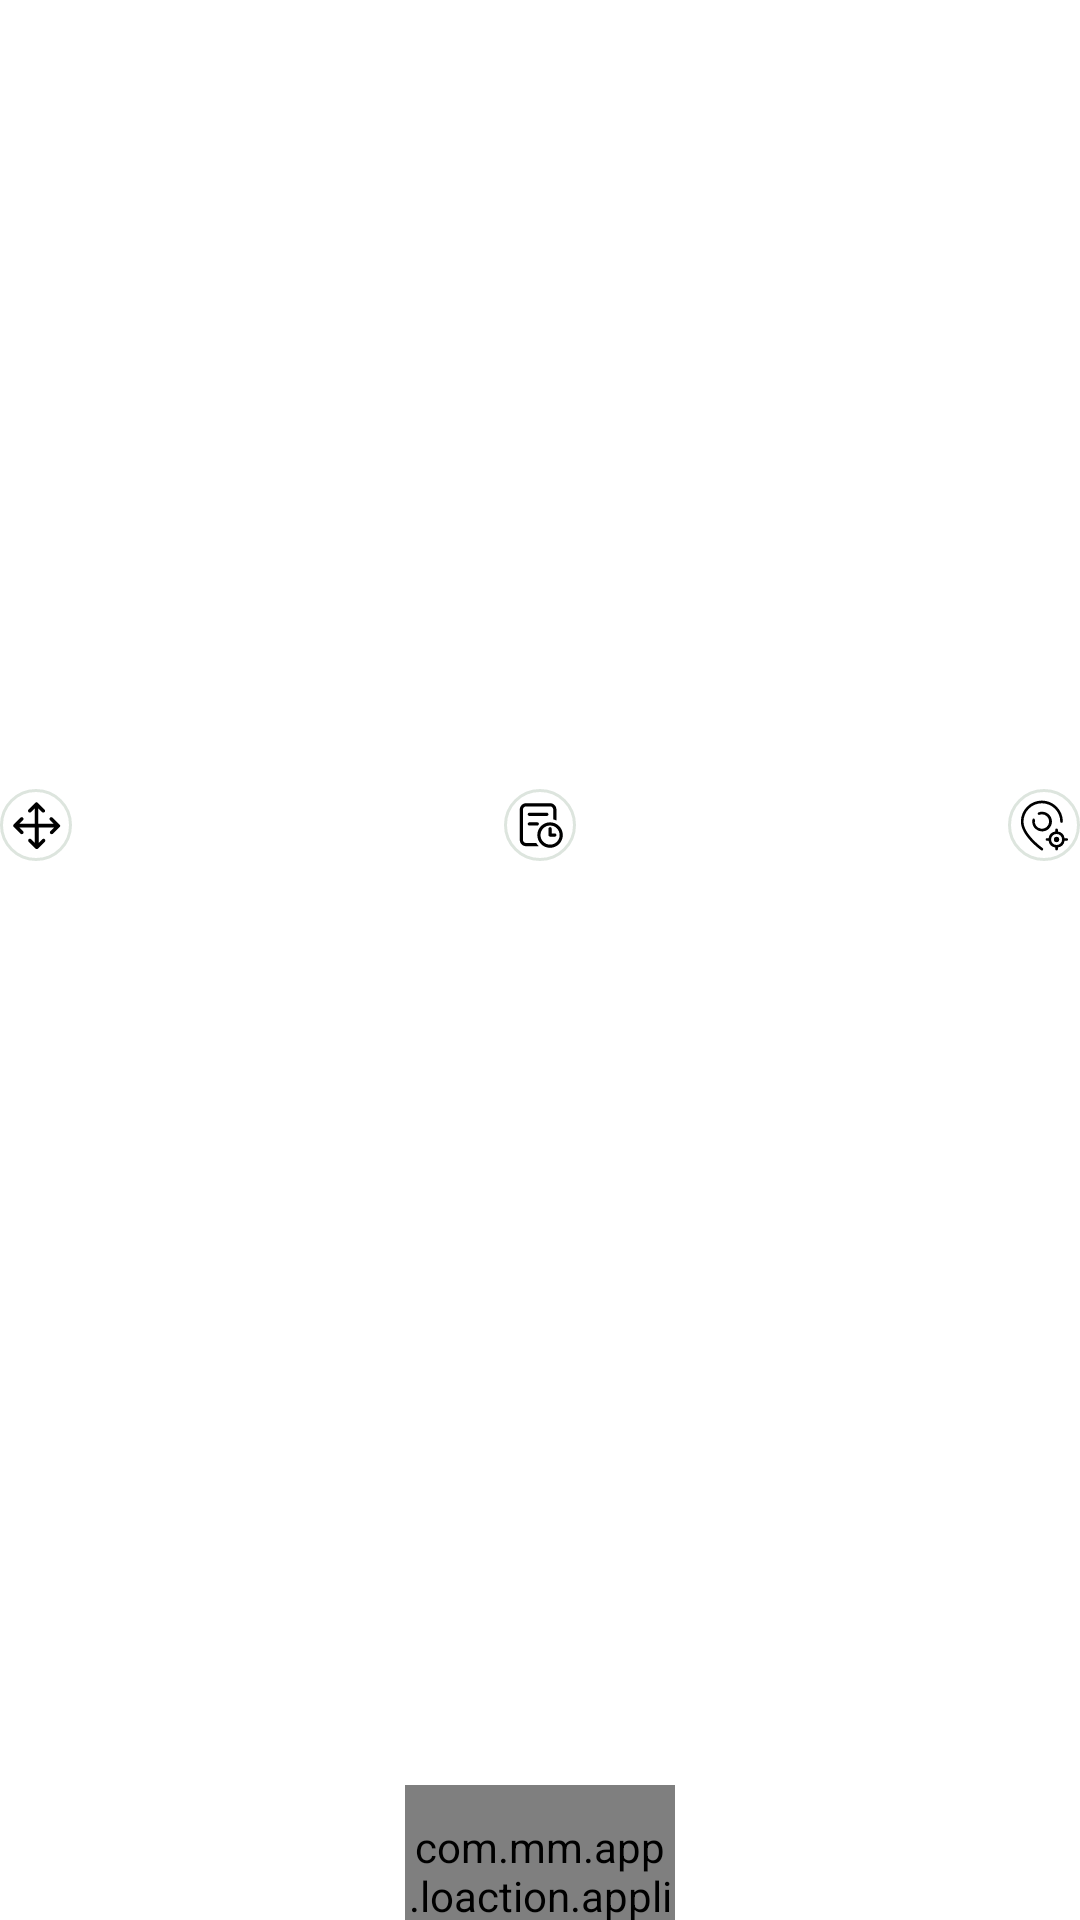

Named icons in this screenshot (1080×1920) and their centers, (x,y):
history: (540,825)
map: (1044,825)
move: (36,825)
